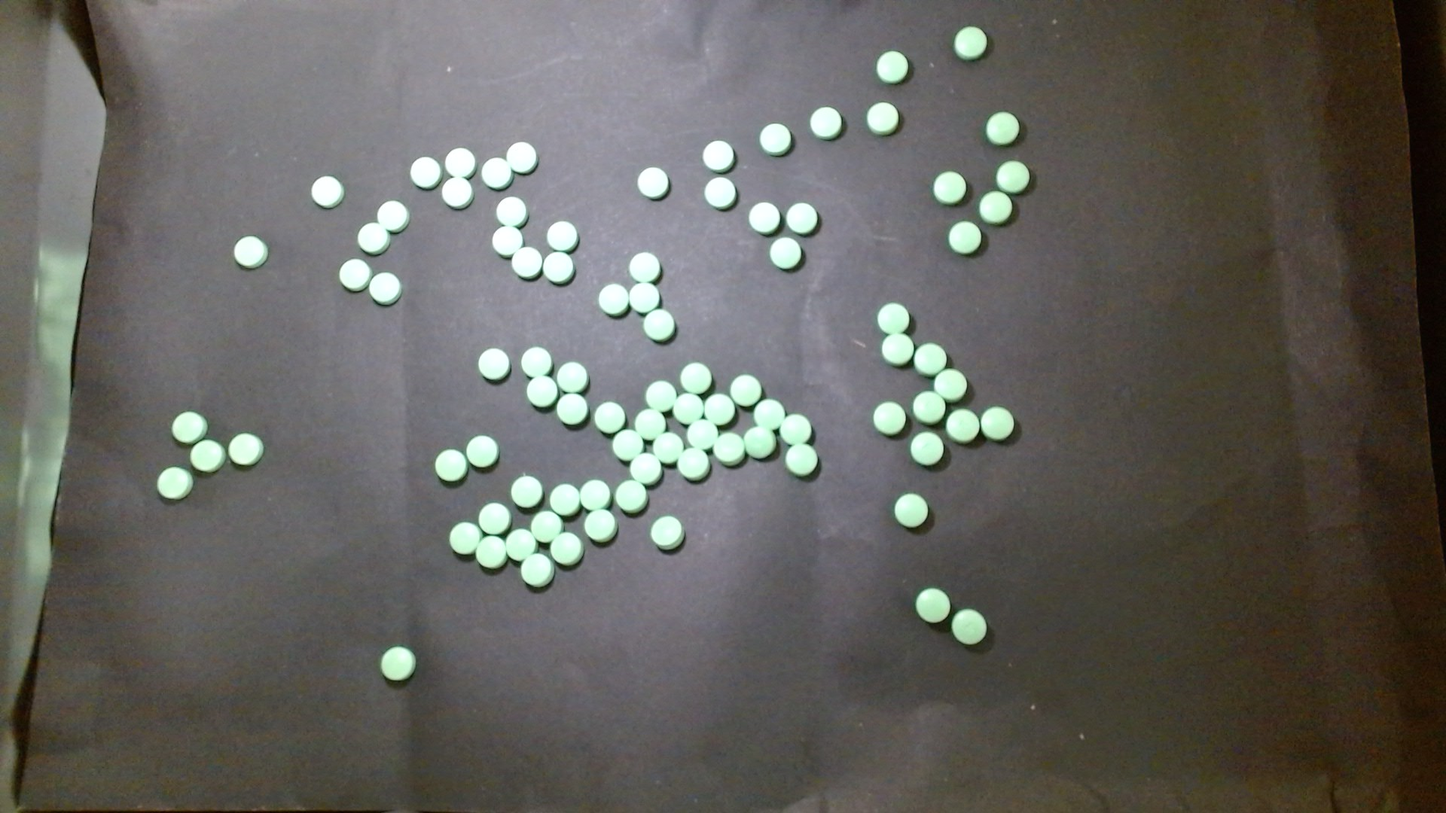Circle: (378, 644, 417, 683), (894, 492, 929, 528), (915, 587, 950, 622), (156, 466, 192, 500), (227, 432, 262, 466), (909, 431, 943, 466), (952, 609, 986, 644), (981, 406, 1015, 441), (872, 401, 906, 436), (520, 553, 554, 587), (172, 410, 206, 444), (933, 171, 967, 205), (985, 111, 1019, 145), (550, 531, 583, 566), (946, 408, 979, 443), (191, 440, 225, 473), (947, 221, 981, 254), (978, 190, 1011, 224), (996, 160, 1030, 193), (877, 301, 910, 335), (880, 333, 914, 366), (953, 26, 987, 59), (651, 515, 683, 550), (466, 434, 498, 469), (478, 501, 510, 536), (914, 343, 947, 376), (785, 443, 817, 477), (584, 509, 616, 543), (233, 236, 267, 268), (476, 534, 507, 569), (511, 475, 542, 510), (369, 272, 401, 305), (338, 258, 370, 291), (759, 123, 792, 155), (643, 309, 675, 342), (477, 347, 509, 380), (615, 480, 647, 513), (913, 391, 945, 424), (876, 50, 908, 83), (526, 376, 558, 409), (713, 432, 745, 465), (435, 449, 466, 483), (449, 521, 480, 555), (580, 479, 611, 513), (630, 452, 661, 486), (311, 175, 343, 207), (357, 222, 389, 254), (704, 177, 736, 209), (637, 166, 669, 198), (866, 102, 898, 134), (680, 362, 712, 394), (677, 449, 709, 481), (934, 368, 966, 400), (780, 414, 812, 446), (377, 200, 408, 233), (543, 251, 574, 284), (770, 236, 801, 269), (597, 283, 628, 316), (520, 346, 551, 379), (557, 361, 588, 394), (531, 510, 562, 543), (594, 401, 625, 434), (753, 398, 784, 431), (550, 483, 580, 517), (480, 157, 511, 189), (703, 140, 734, 172), (441, 176, 472, 208), (810, 106, 841, 138), (645, 379, 676, 411), (744, 426, 775, 458), (410, 156, 440, 189), (557, 393, 587, 426), (506, 529, 536, 562), (673, 392, 703, 425), (653, 431, 683, 464), (613, 430, 644, 461), (506, 141, 536, 173), (786, 202, 816, 234), (731, 374, 761, 406), (704, 393, 734, 425), (749, 202, 779, 233), (496, 196, 526, 227), (547, 220, 577, 251), (630, 251, 660, 282), (687, 419, 718, 449), (635, 409, 665, 440), (512, 246, 541, 277), (493, 224, 522, 255), (445, 148, 474, 178), (630, 282, 659, 312)
